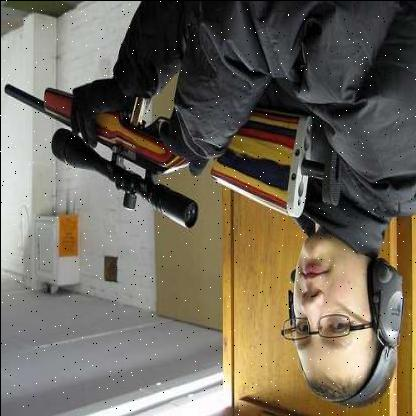rifle: (0, 58, 348, 245)
